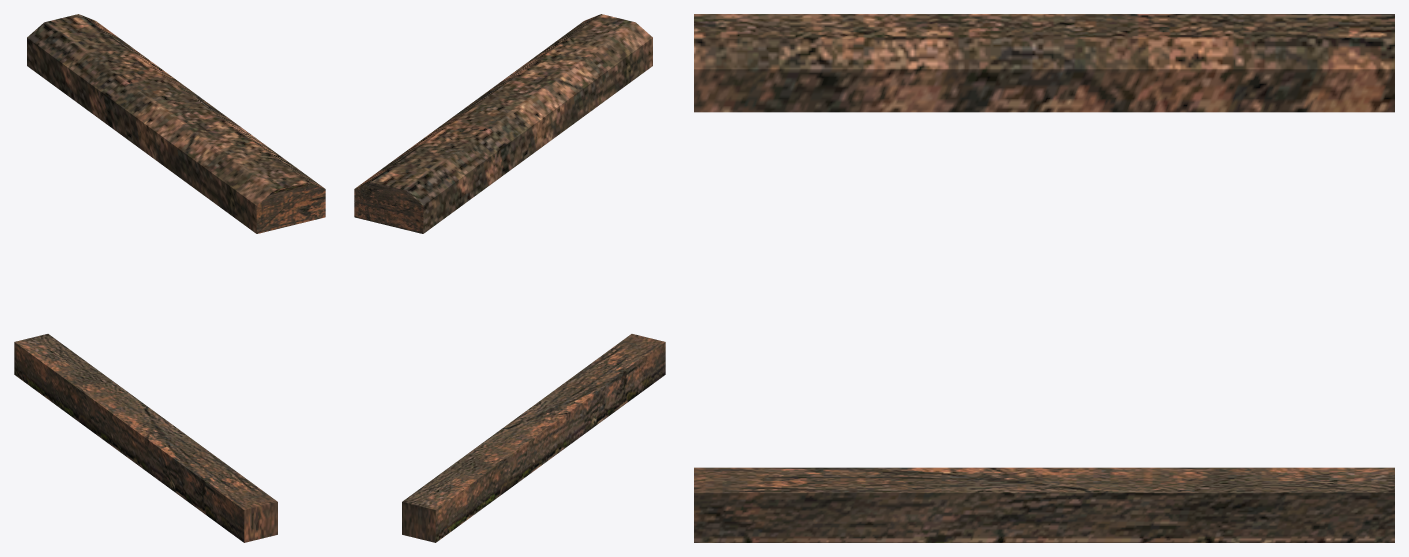
File: factory_stairs_06_1m.DAE
The picture shows the model from 3 angles, left to right: view 1: azimuth 30°, elevation 25°; view 2: azimuth 150°, elevation 25°; view 3: azimuth 270°, elevation 25°; orthographic projection. The views are drawn at different scales.
Parts seen in each view (by area): view 1: Box340; view 2: Box340; view 3: Box340.
Boxes of the visible parts, left/top/right/bottom form: Box340: left=14, top=14, right=325, bottom=542; Box340: left=354, top=14, right=665, bottom=542; Box340: left=694, top=14, right=1394, bottom=542.
Size of the model in its own units: 0.2045 by 0.8283 by 1.
